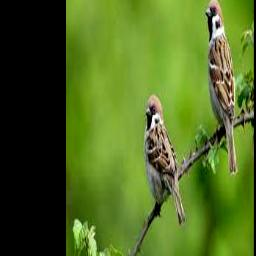Sparrow: (206, 0, 238, 175), (145, 93, 185, 225)
